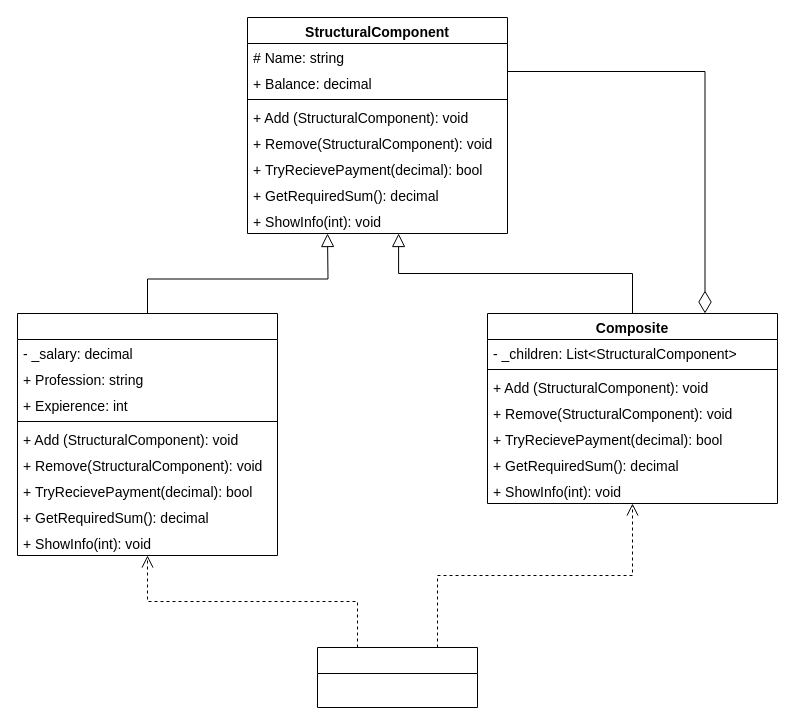
This 795x725 diagram has some shape labels left out. The shapes that lost their labels are listed below. From the top down, each one's box as (x1, y1, x2, y2) in pixels, then its label:
(16, 312, 278, 556): Employee
(316, 646, 478, 708): Client (Program)
